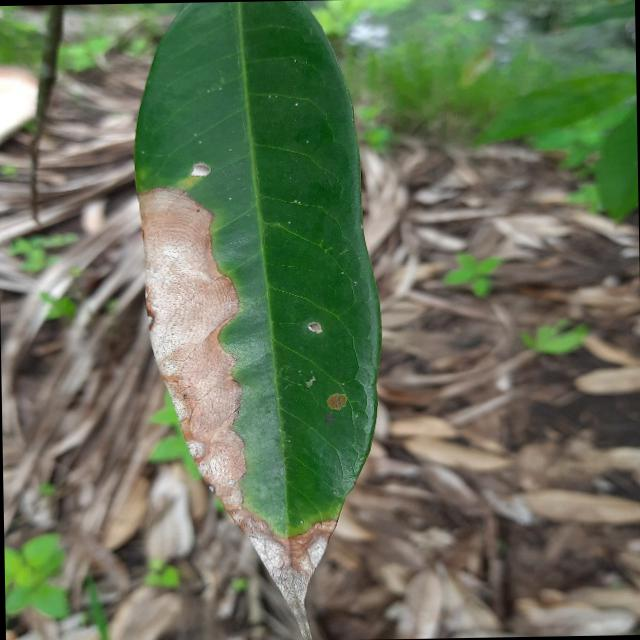Leaf Blight: (123, 0, 399, 639)
